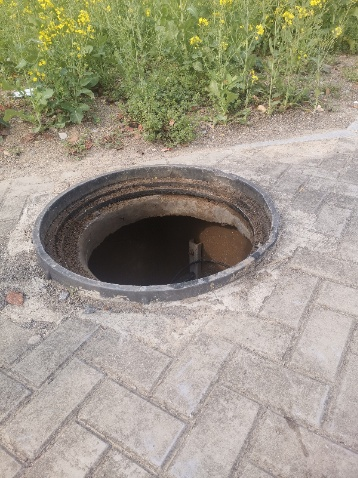lose: (34, 162, 280, 301)
